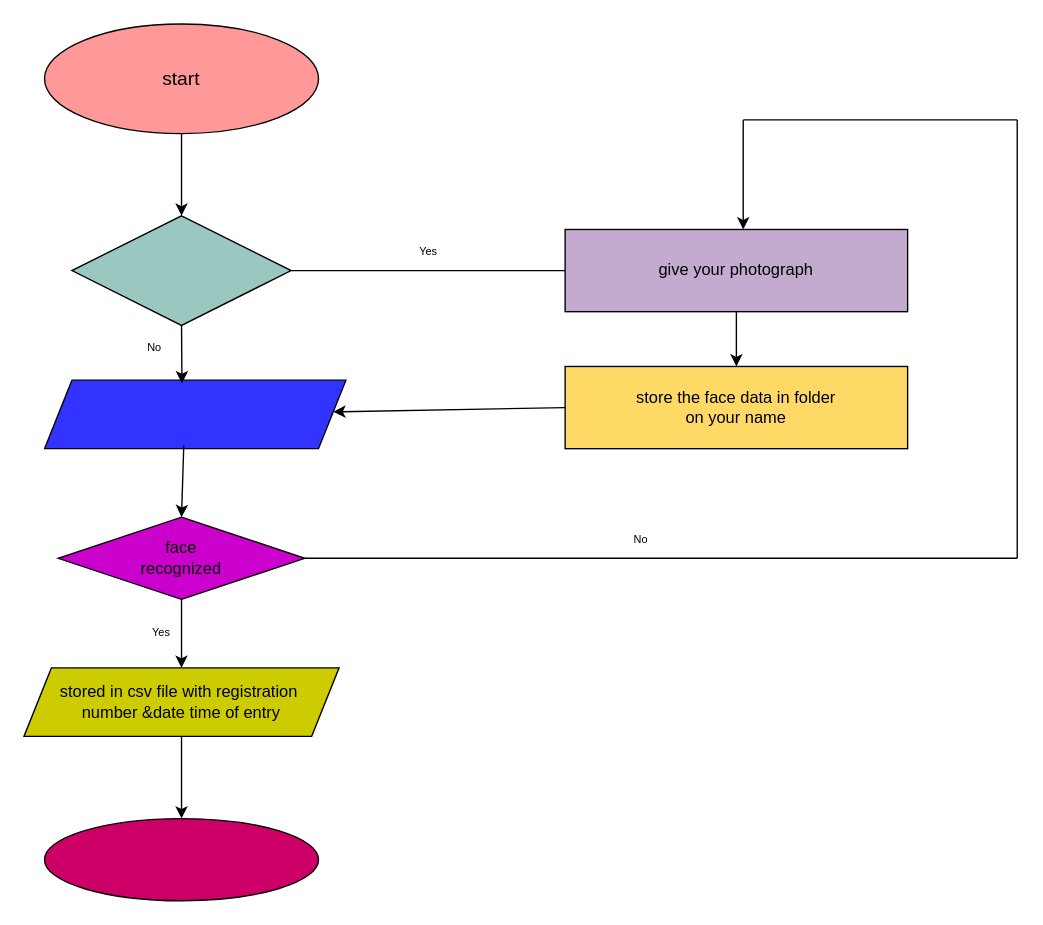
The diagram is 1043 pixels wide and 925 high, and some of its shapes have lost their labels. Here are the shapes that lost their labels. From the top down, the centre of each, then its label:
the point at 181,269: new user? run create_database
the point at 194,414: recognize the face run crate_database py
the point at 181,859: End
